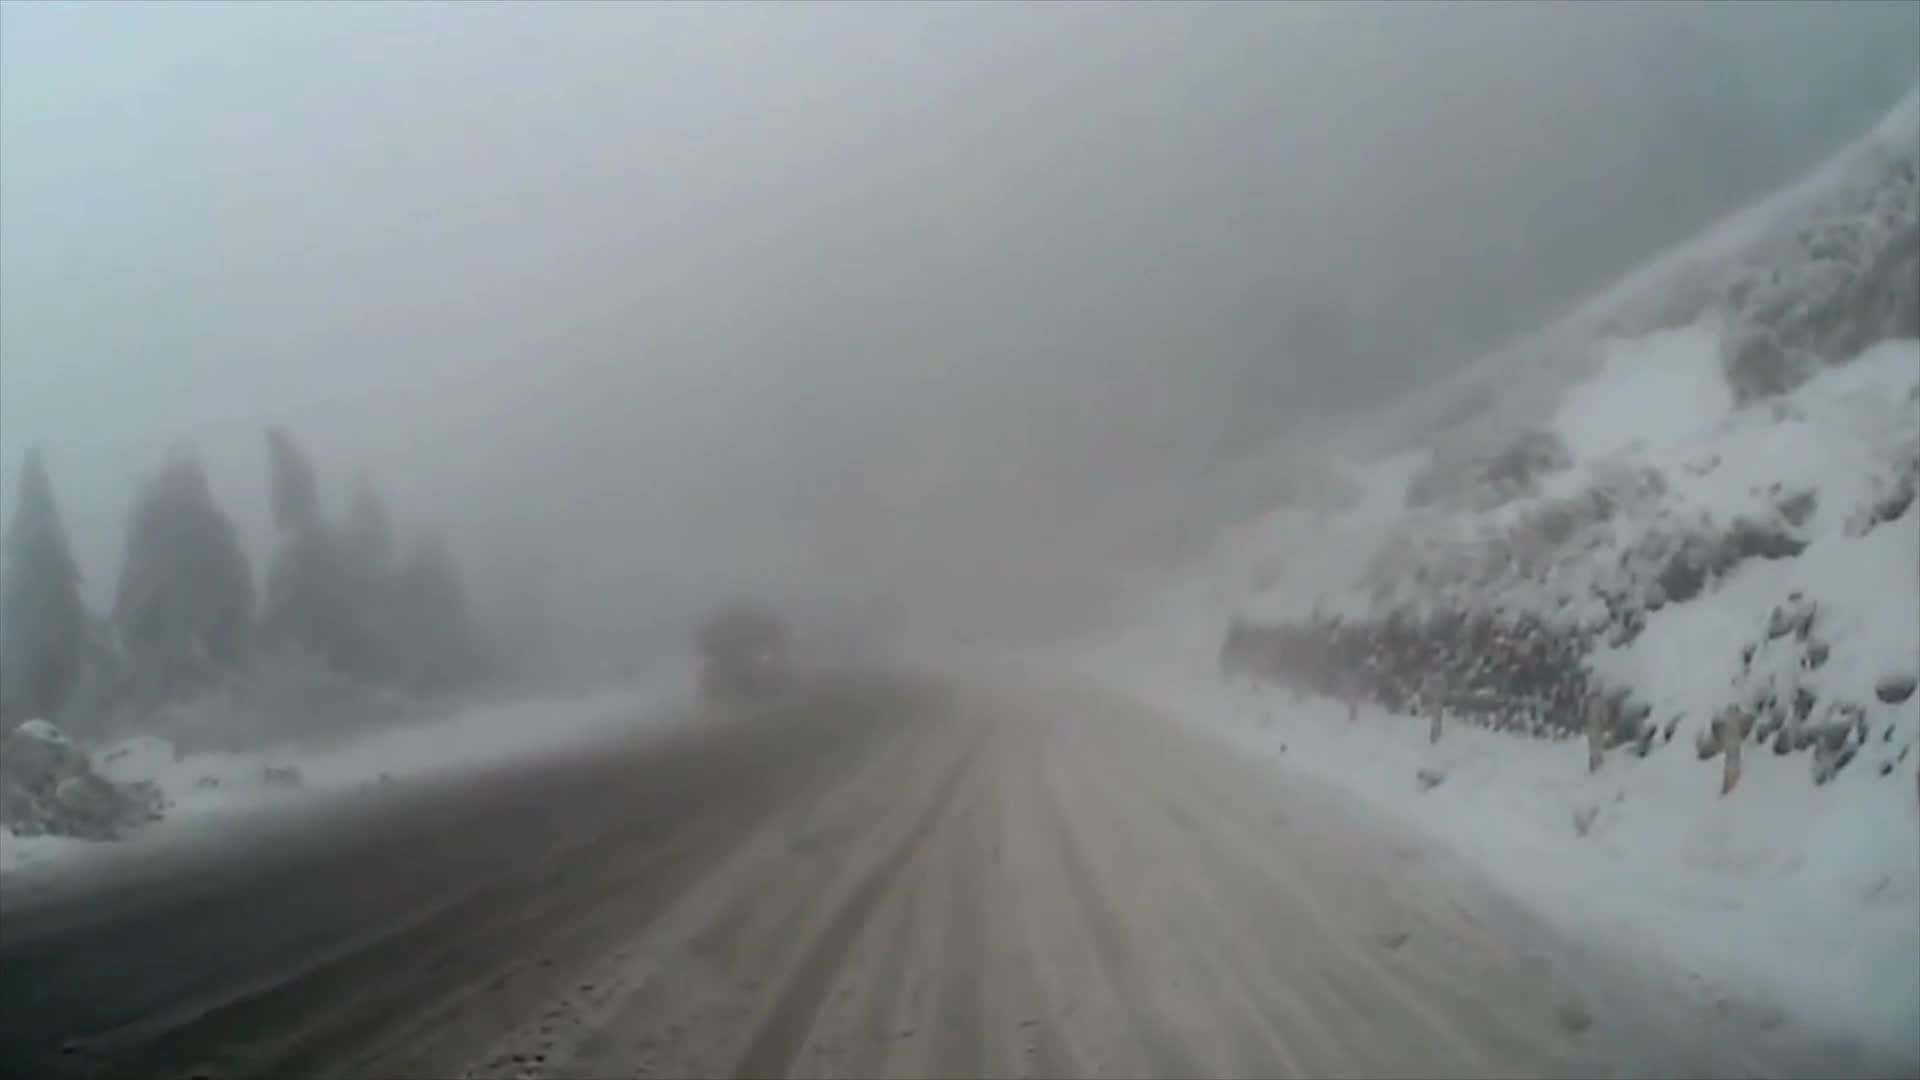vehicle: (688, 608, 789, 702)
